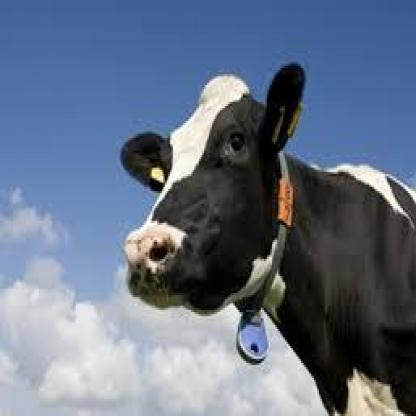cow: (121, 61, 415, 416)
